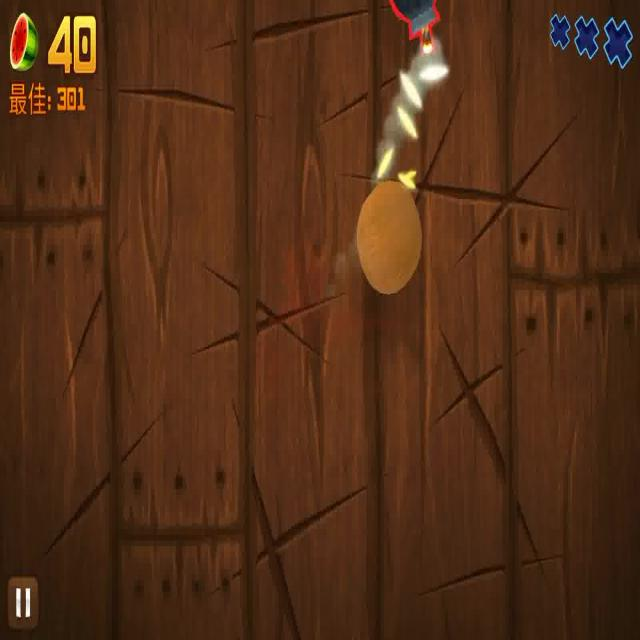bomb: (384, 0, 459, 69)
fruit: (358, 175, 422, 294)
